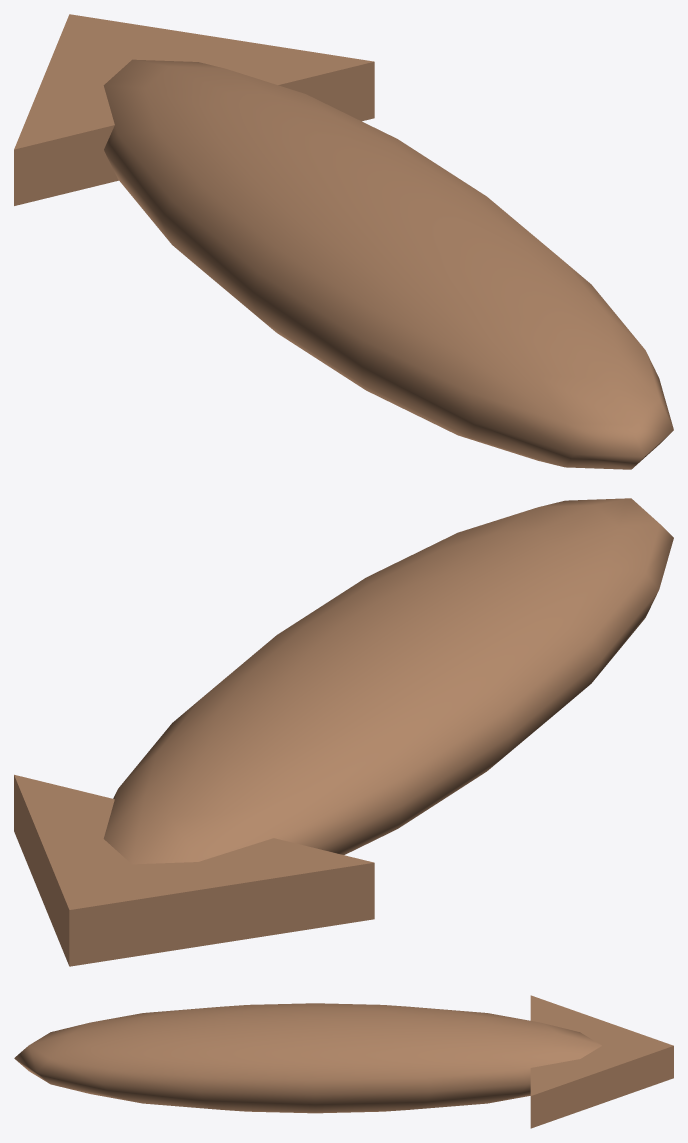
File: survival-food-and-preservation-dried-fish-15bdccf4__21750.glb
The picture shows the model from 3 angles, top to bottom: view 1: azimuth 30°, elevation 25°; view 2: azimuth 150°, elevation 25°; view 3: azimuth 270°, elevation 25°; orthographic projection. The views are drawn at different scales.
Parts seen in each view (by area): view 1: dried-fish; view 2: dried-fish; view 3: dried-fish.
Part boxes in pixels (left/top/right/bottom): dried-fish: left=14, top=14, right=673, bottom=469; dried-fish: left=14, top=498, right=673, bottom=966; dried-fish: left=14, top=995, right=673, bottom=1128.
Bounding box in the file's own units: 0.1 × 0.0384 × 0.276.
